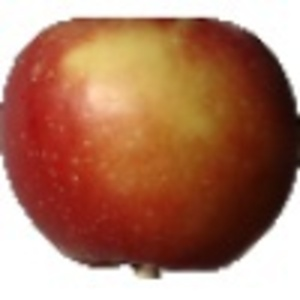maçã braeburn: (1, 15, 299, 272)
